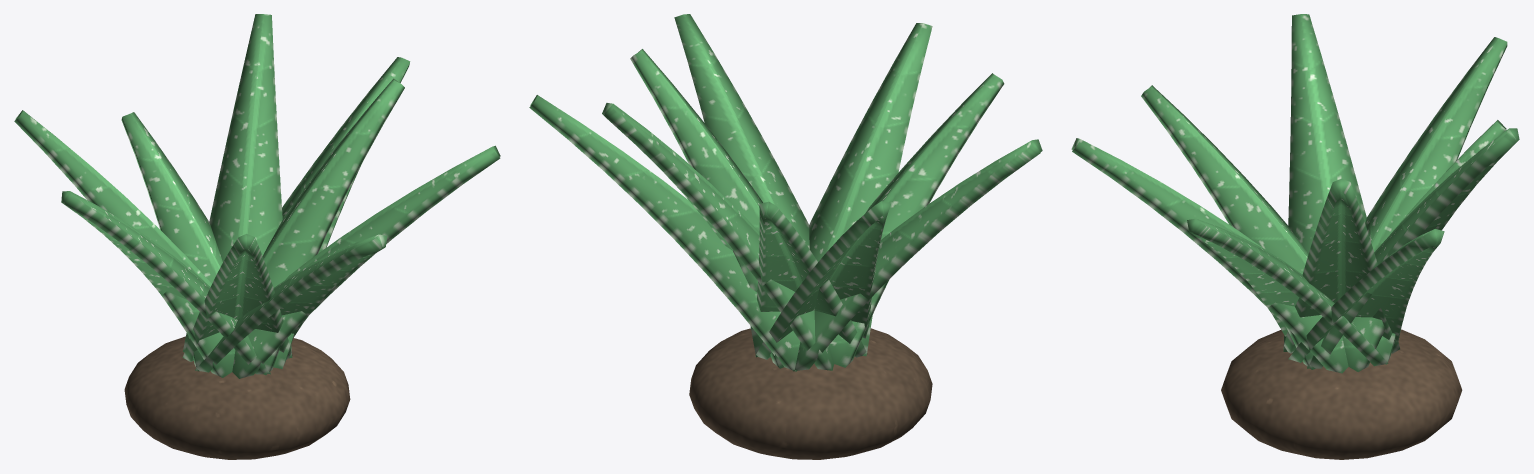
Rendered from aloe_plant.glb.
3 views of the same model, side by side, from view 1: azimuth 30°, elevation 25°; view 2: azimuth 150°, elevation 25°; view 3: azimuth 270°, elevation 25° (orthographic). The views are drawn at different scales.
Parts seen in each view (by area): view 1: Aloe; view 2: Aloe; view 3: Aloe.
Part boxes in pixels (box(x1,y1,x2,y2)): Aloe: box(14, 14, 500, 459); Aloe: box(529, 14, 1042, 459); Aloe: box(1071, 14, 1519, 459).
Size of the model in its own units: 0.7942 by 0.6309 by 0.7057.
1 material, 1 textured.
